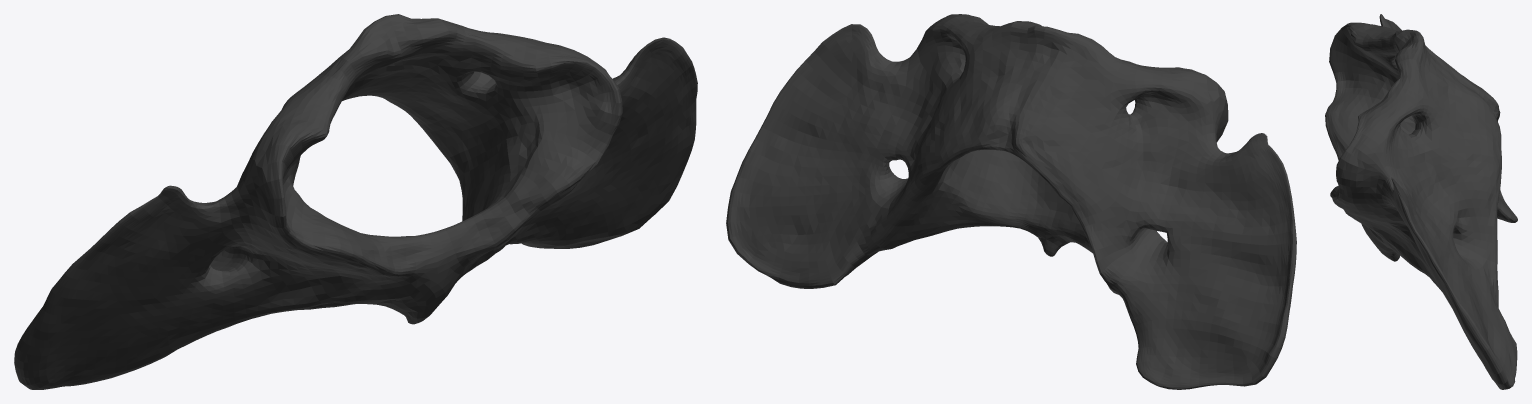
The picture shows the model from 3 angles, left to right: view 1: azimuth 30°, elevation 25°; view 2: azimuth 150°, elevation 25°; view 3: azimuth 270°, elevation 25°; orthographic projection. The views are drawn at different scales.
Parts seen in each view (by area): view 1: c1_low; view 2: c1_low; view 3: c1_low.
Part boxes in pixels (x1=…): c1_low: x1=14, y1=14, x2=697, y2=389; c1_low: x1=726, y1=14, x2=1296, y2=389; c1_low: x1=1325, y1=14, x2=1517, y2=389.
Bounding box in the file's own units: 90.29 × 44.58 × 29.9.
1 material, 1 textured.
